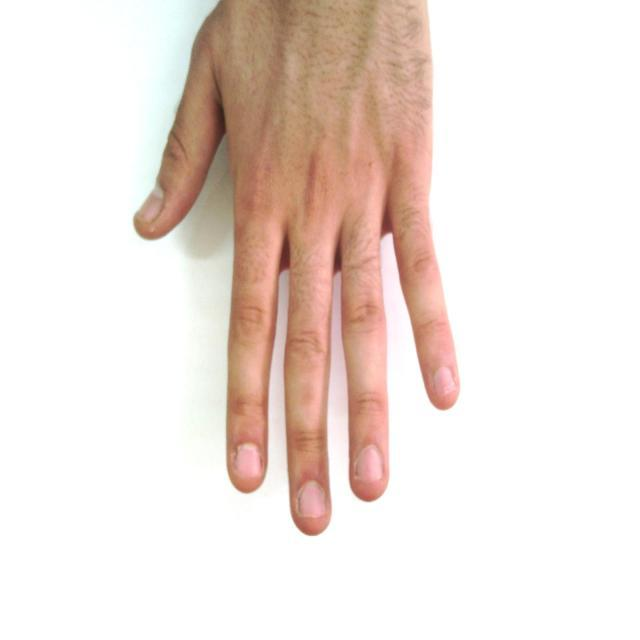Fingernail: (136, 188, 164, 223), (356, 447, 382, 483), (300, 483, 325, 518), (236, 445, 261, 478), (435, 369, 455, 395)
